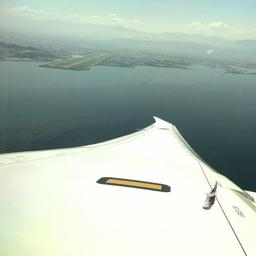Cuckoo: (203, 180, 218, 210)
